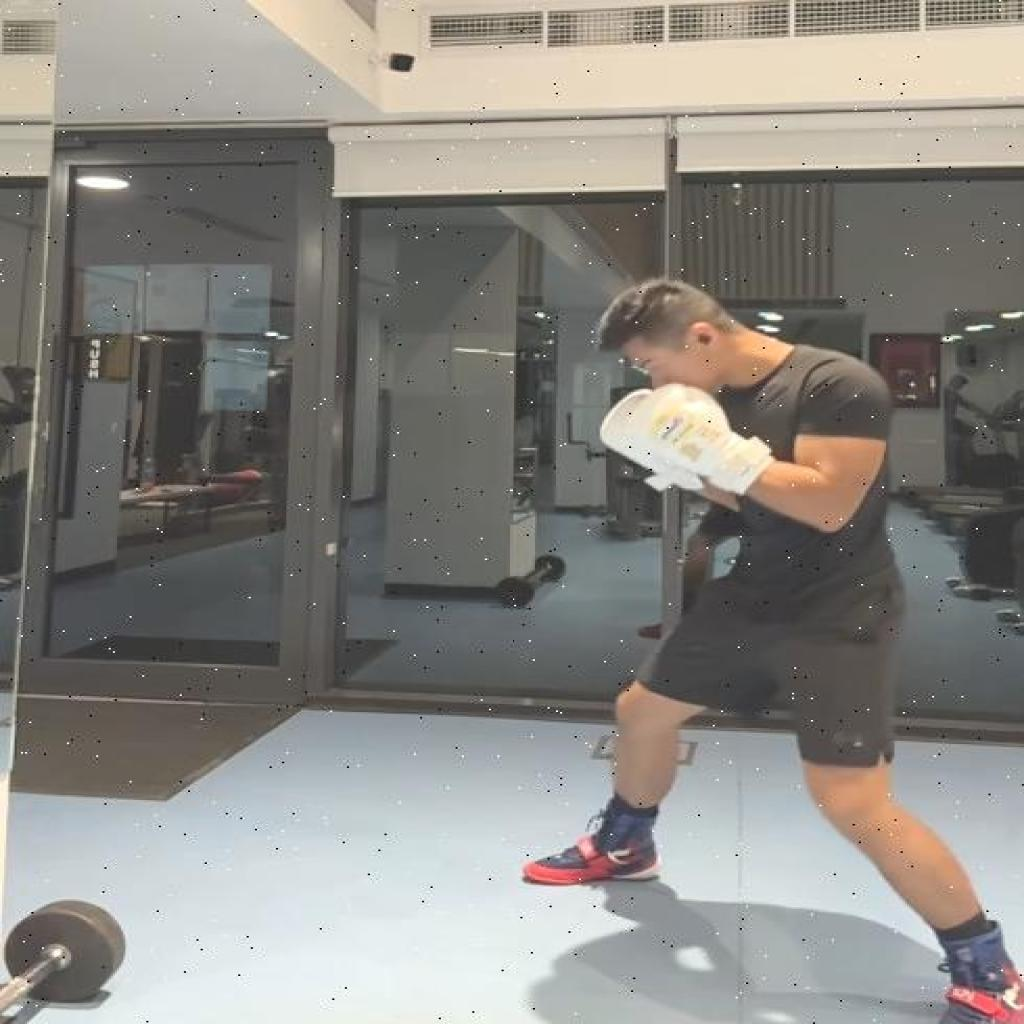no punch: (518, 275, 1024, 1024)
